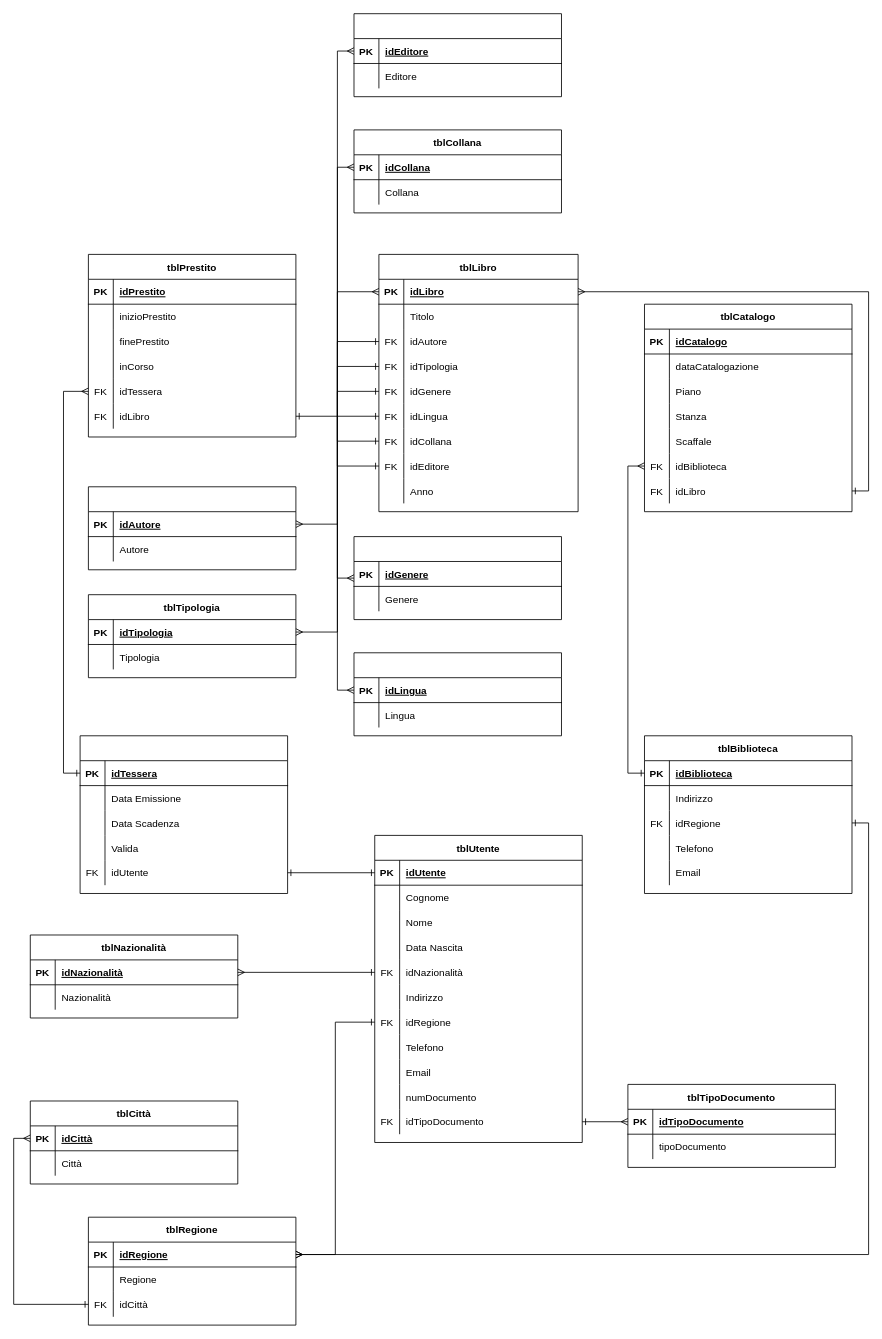
Image size: 882x1339. Some labels were removed from this diagram. Here are the shapes that lost their labels. From the top down, the box of each, then its label:
(353, 13, 561, 97): tblEditore
(88, 486, 296, 570): tblAutore
(353, 536, 561, 620): tblGenere
(353, 652, 561, 736): tblLingua
(79, 735, 288, 893): tblTessera
